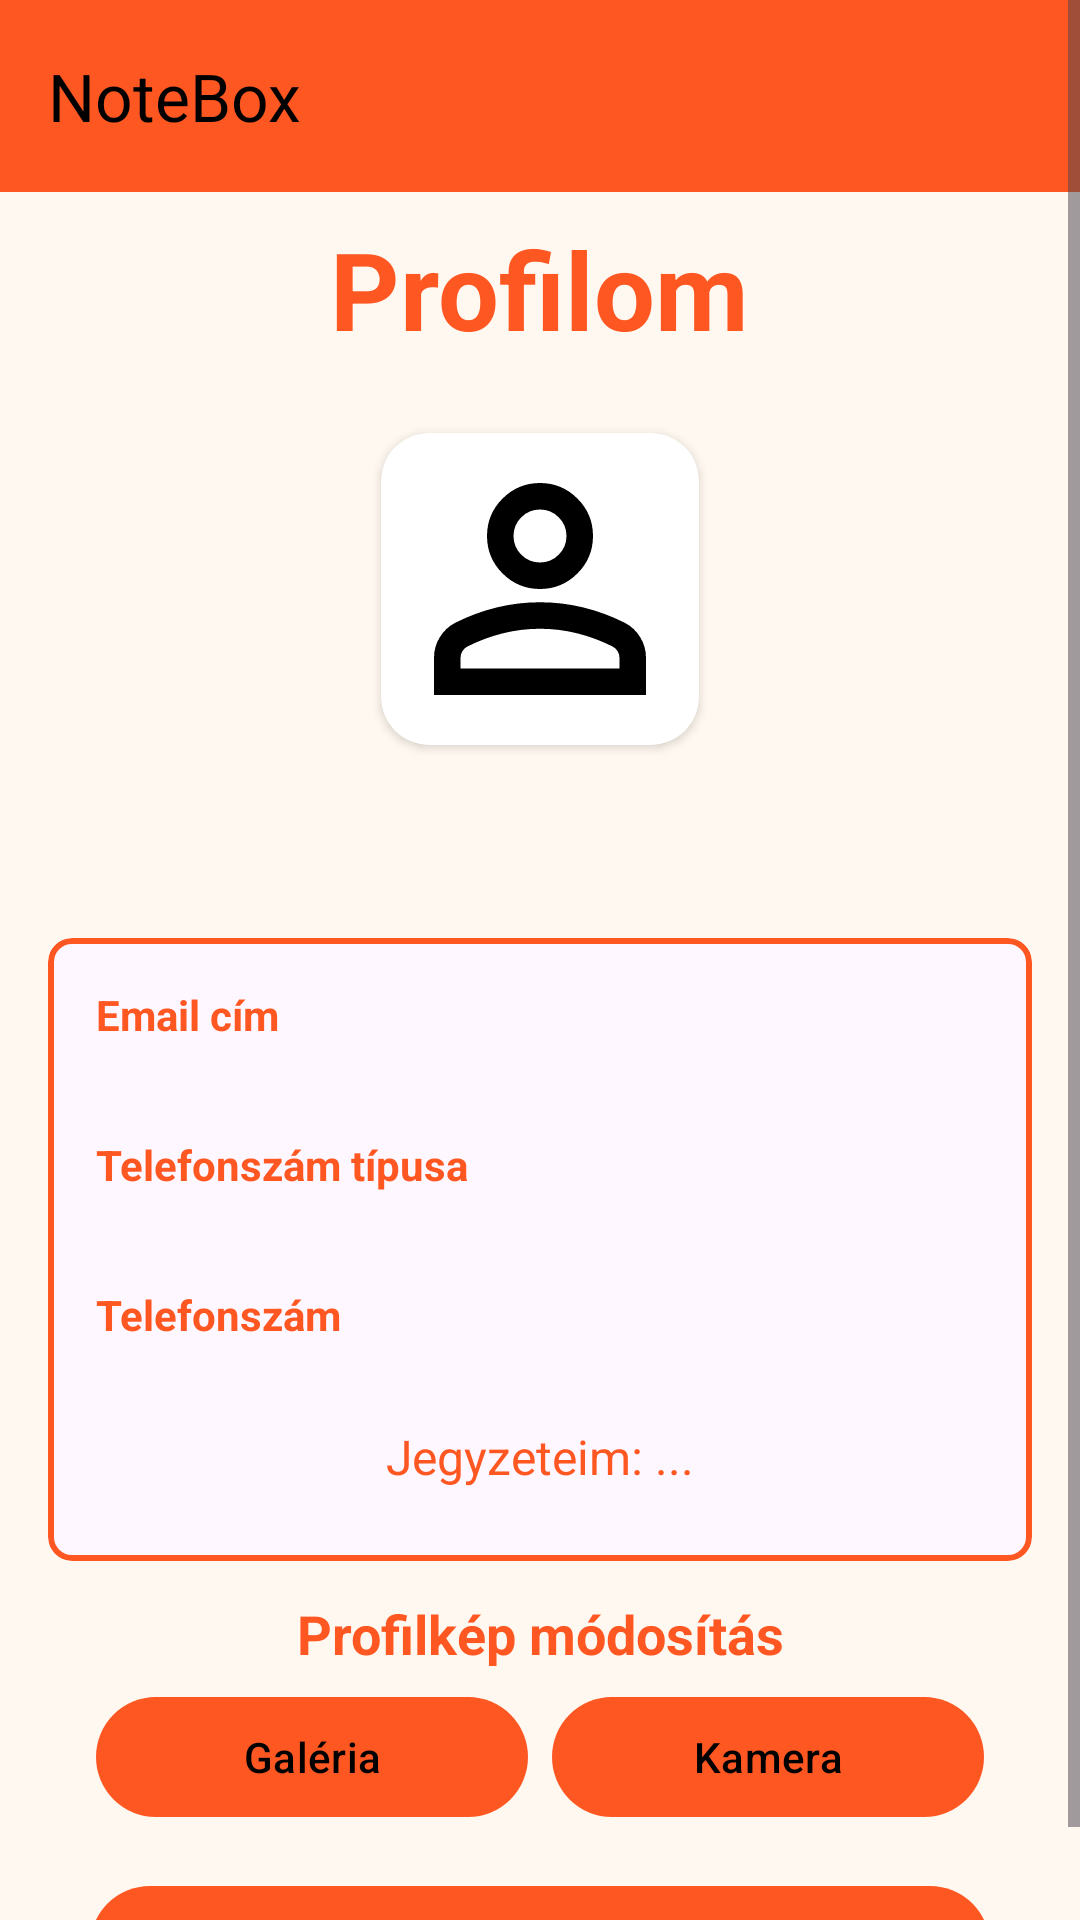

Screen size 1080px×1920px. Icon name, then its box in pixels as bbox(x1, y1, x2, y2):
profile: bbox(381, 433, 699, 745)
